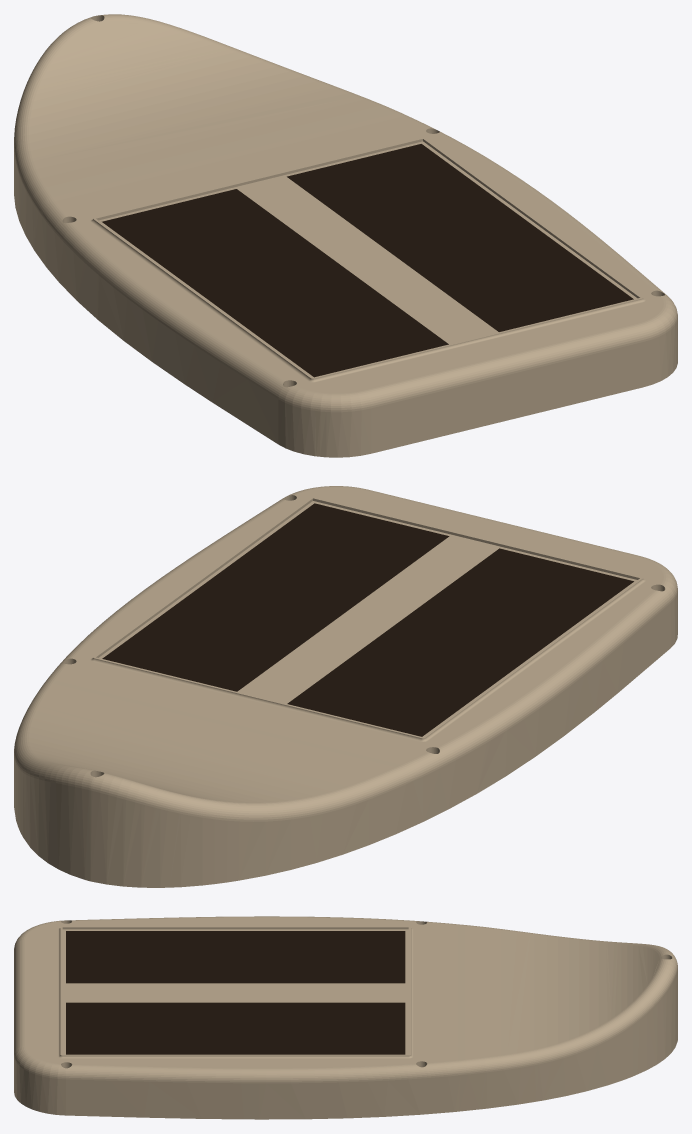
File: drone.glb
3 views of the same model, one above another, from view 1: azimuth 30°, elevation 25°; view 2: azimuth 150°, elevation 25°; view 3: azimuth 270°, elevation 25° (orthographic). The views are drawn at different scales.
Visible parts, largest first — view 1: Ok; view 2: Ok; view 3: Ok.
Part boxes in pixels (bbox=[...]): Ok: bbox=[14, 14, 677, 457]; Ok: bbox=[14, 486, 677, 887]; Ok: bbox=[14, 916, 677, 1119].
Bounding box in the file's own units: 42.79 × 10.24 × 74.82.
